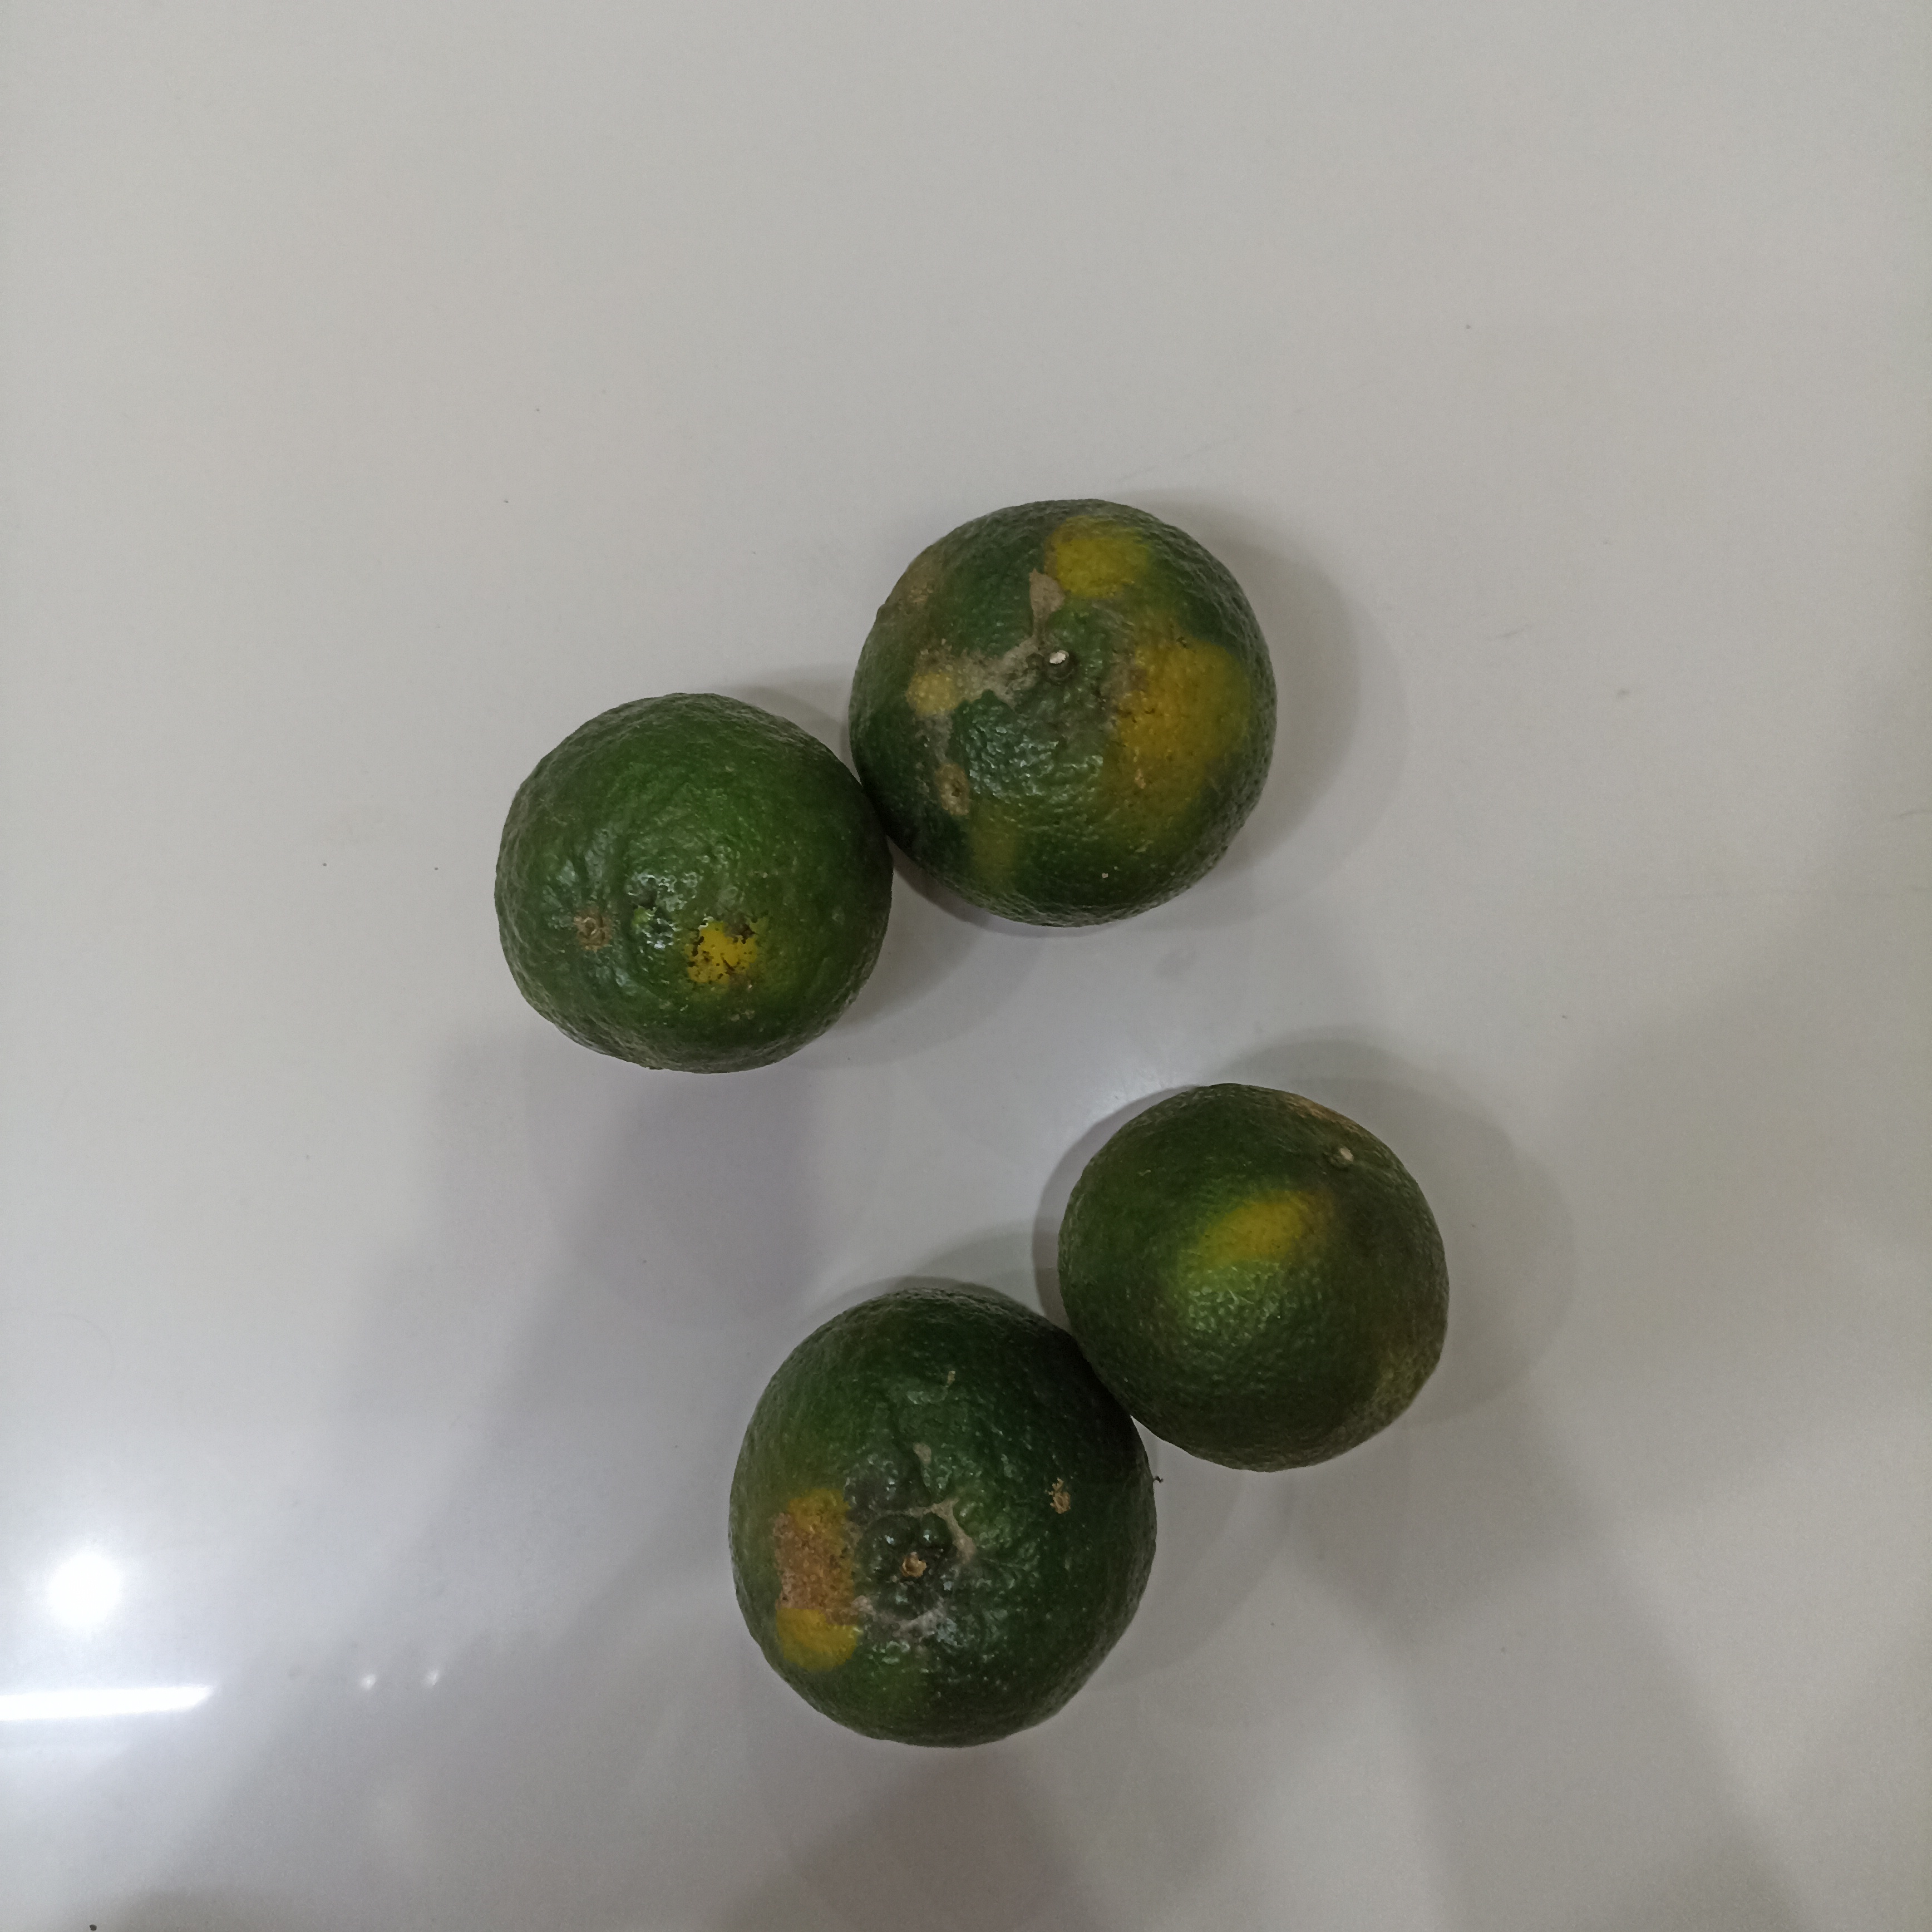Cam: (724, 1288, 1161, 1750), (842, 492, 1283, 932), (1056, 1083, 1453, 1474), (494, 697, 885, 1074)
